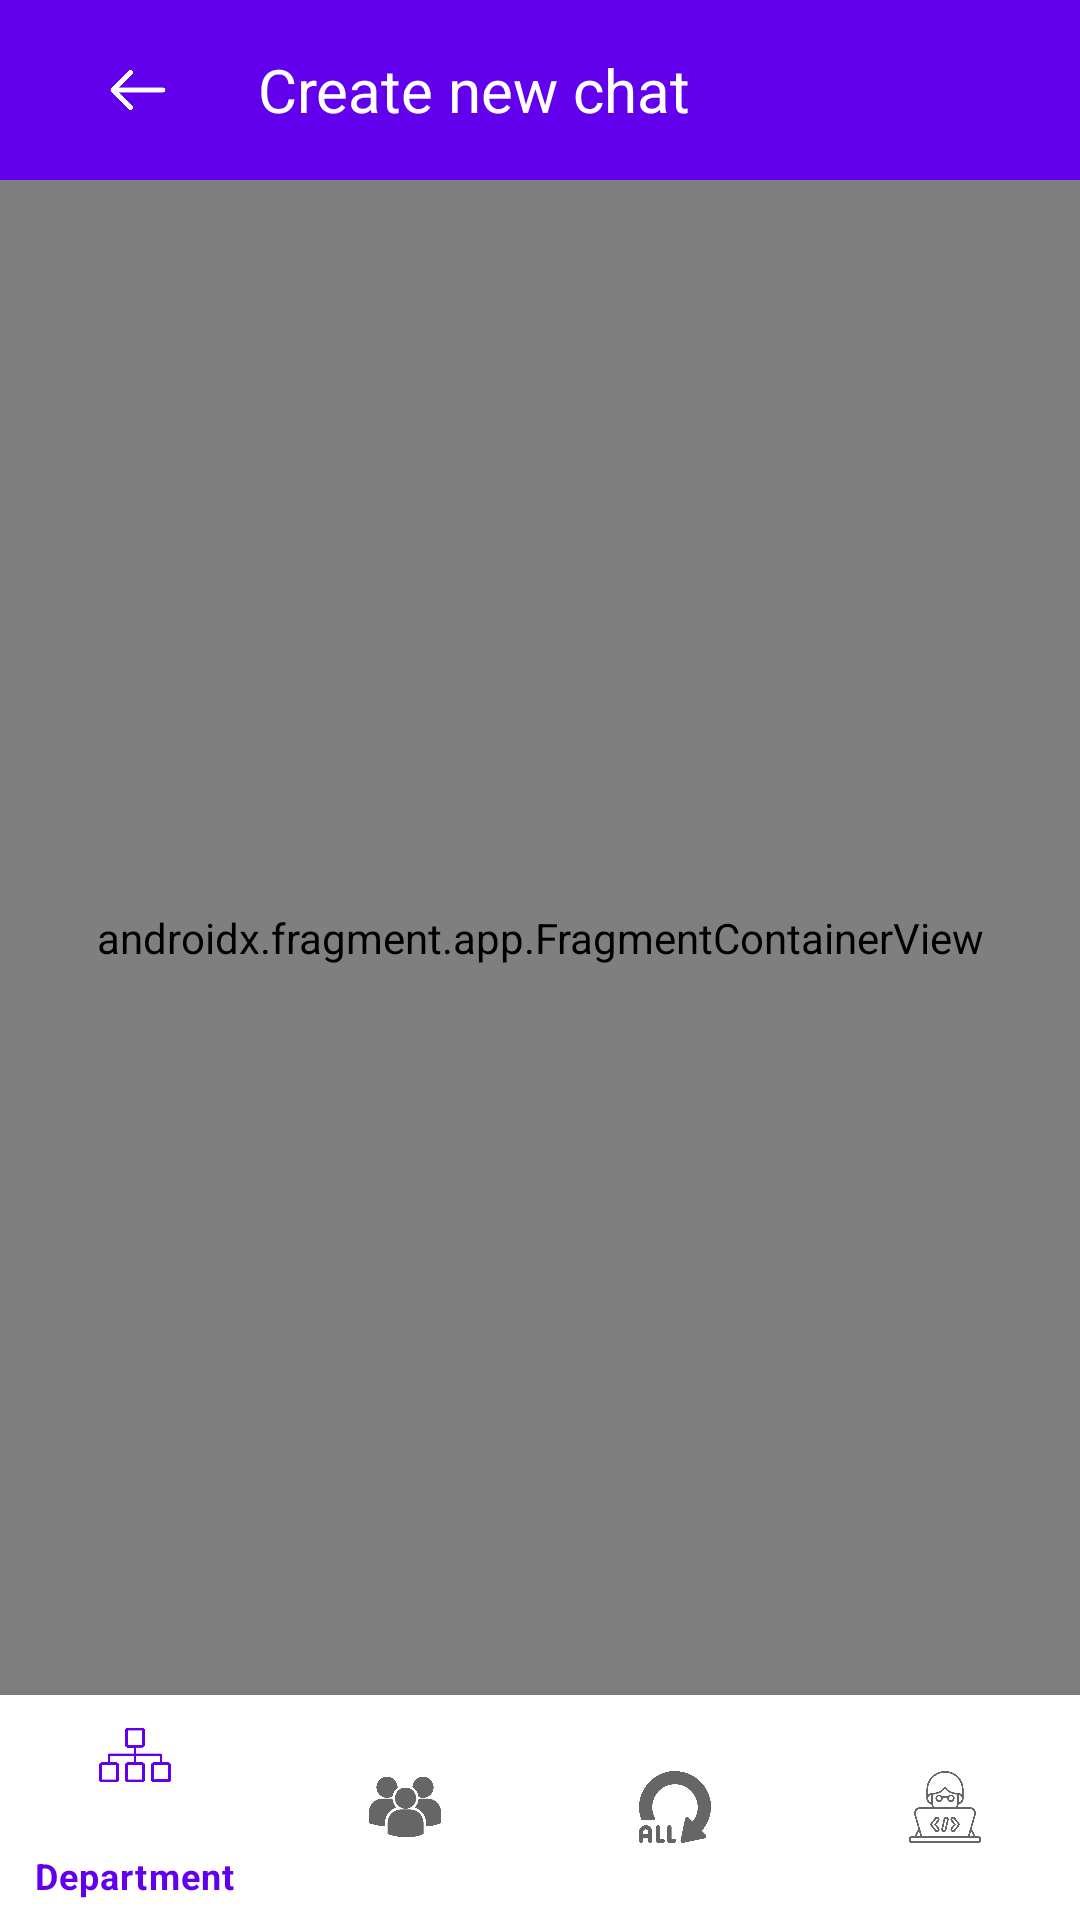

Where to tap for icons on this 1080x1920 app screen, as (x=x, y=y):
back: (x=138, y=90)
